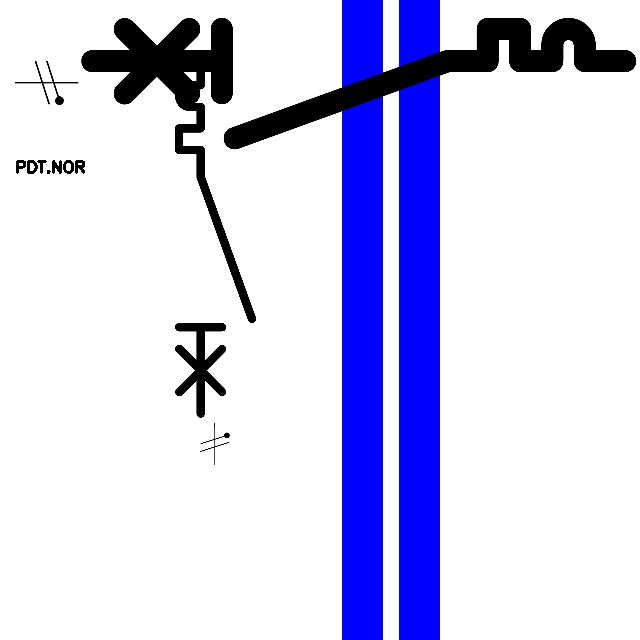interruptor_termomagnetico: (78, 15, 638, 152), (170, 49, 261, 422)
